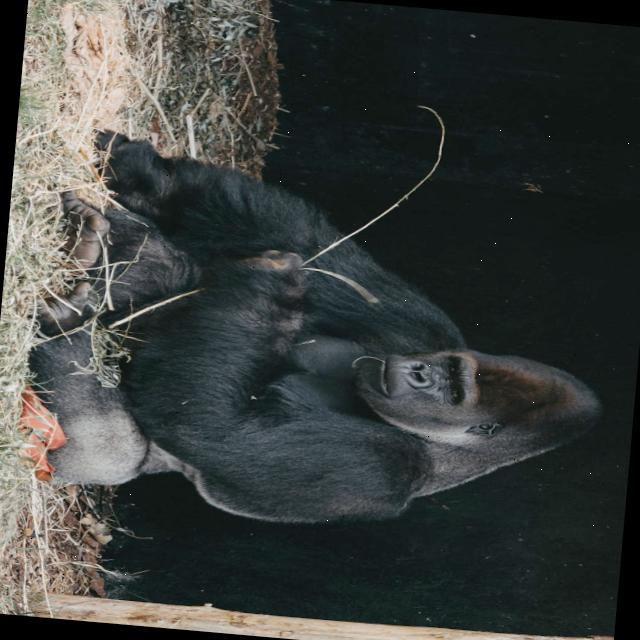Gorilla: (21, 124, 624, 549)
